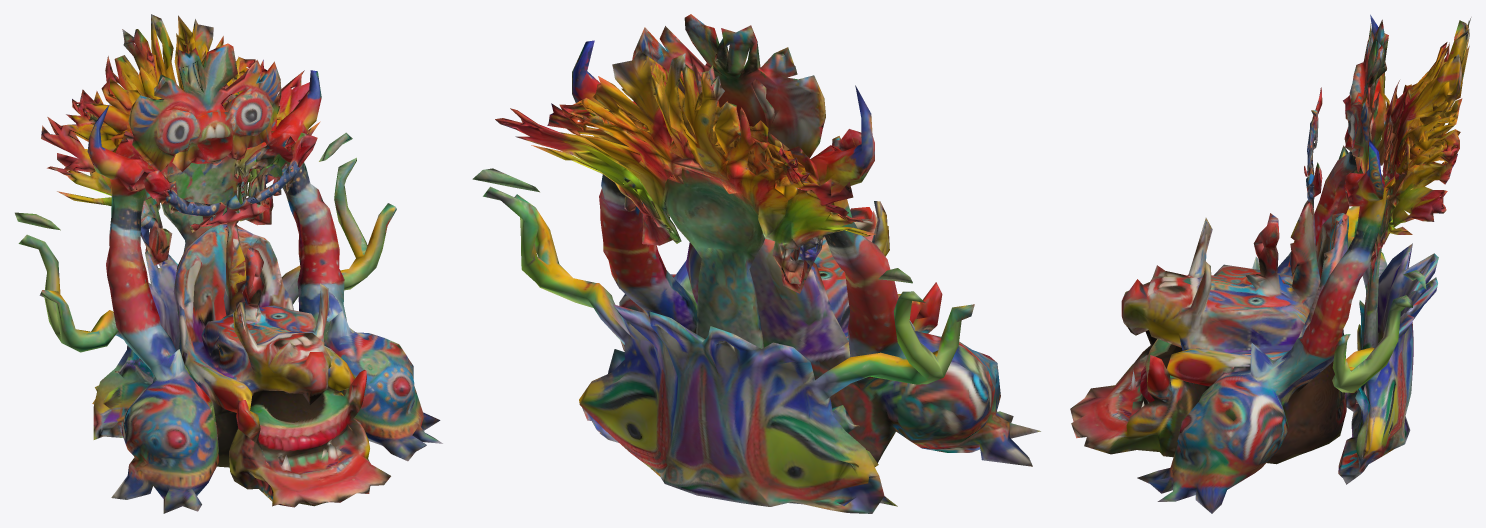
The picture shows the model from 3 angles, left to right: view 1: azimuth 30°, elevation 25°; view 2: azimuth 150°, elevation 25°; view 3: azimuth 270°, elevation 25°; orthographic projection. The views are drawn at different scales.
Bounding box in the file's own units: 1.98 × 1.93 × 1.76.
1 material, 1 textured.
